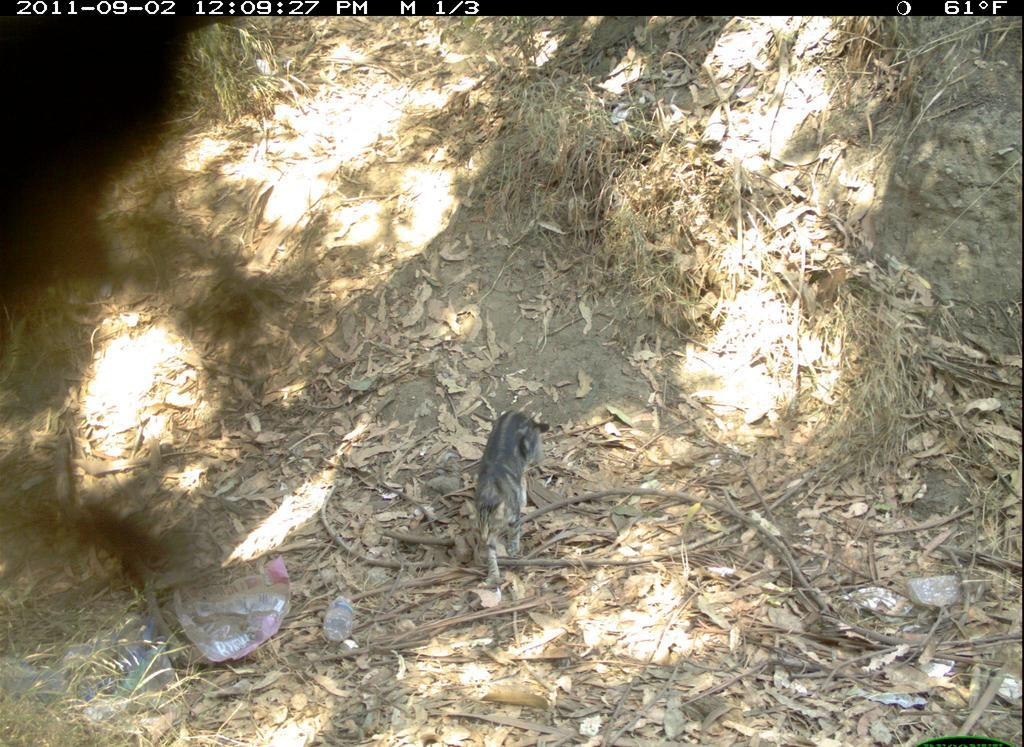cat: (470, 396, 543, 594)
